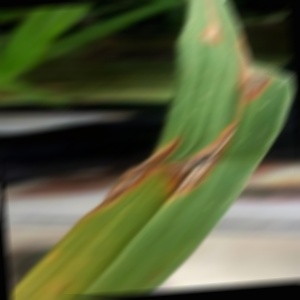Brown_Spot: (95, 122, 190, 199), (172, 114, 251, 201), (229, 34, 292, 108), (192, 0, 229, 45)
